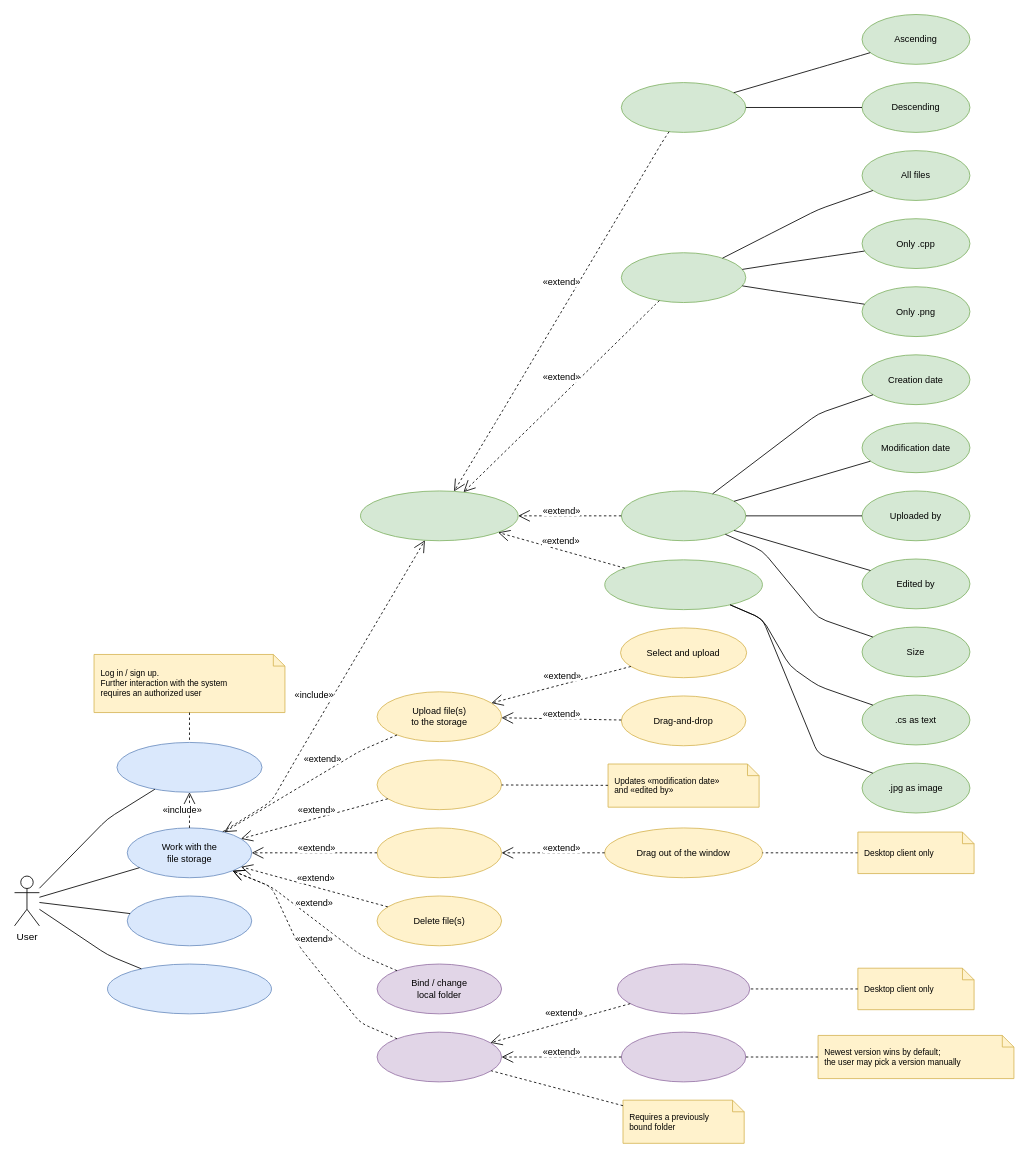
This 1029x1158 diagram has some shape labels left out. Here are the shapes that lost their labels. From the top down, the centre of each, then its label:
At (x=683, y=107): "Sort by name".
At (x=683, y=277): "Filter by type".
At (x=439, y=515): "View the list of files and their attributes".
At (x=683, y=515): "Show / hide table columns".
At (x=683, y=584): "View the file contents".
At (x=189, y=767): "Log in to the system".
At (x=439, y=784): "Update a file (new version)".
At (x=439, y=852): "Download file(s)".
At (x=189, y=920): "Sign up".
At (x=189, y=988): "Log out from the system".
At (x=683, y=988): "Automatic tracking of folder changes".
At (x=439, y=1056): "Synchronize with the local folder".
At (x=683, y=1056): "Resolve version conflicts".
